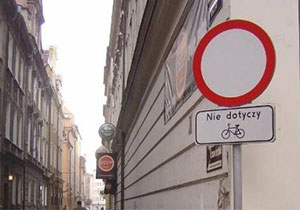no_entry_sign: (192, 19, 277, 106)
